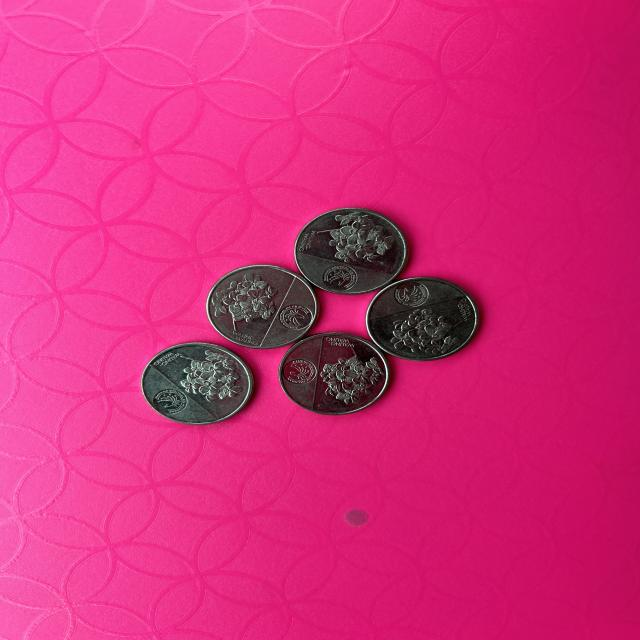1_New_Back: (164, 348, 243, 402), (314, 209, 388, 266), (387, 308, 466, 357), (210, 275, 274, 322), (318, 350, 379, 394)
